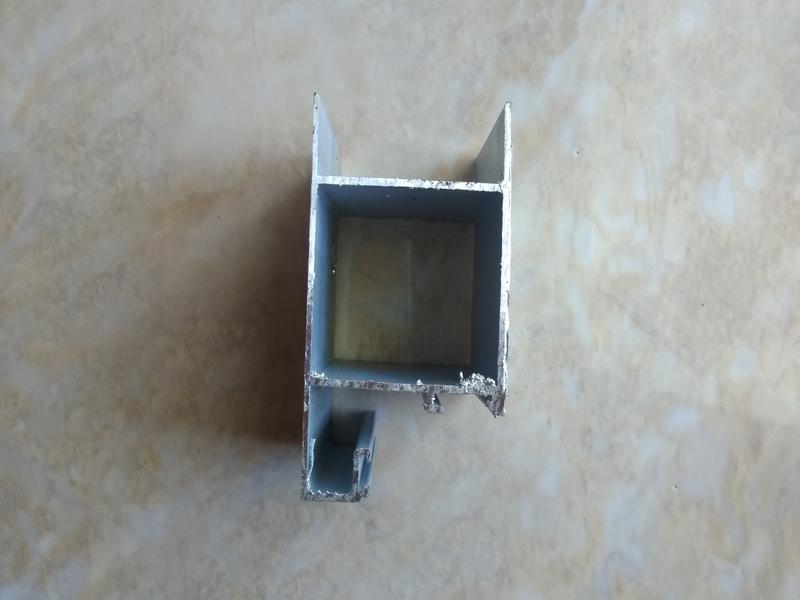Aluminium_2: (264, 71, 569, 534)
